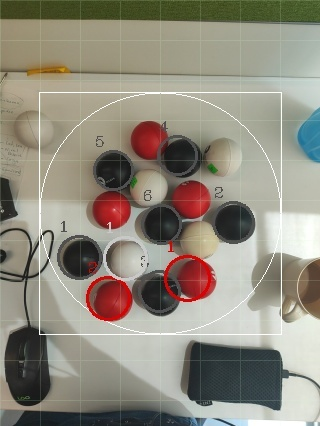Pelota blanca: (103, 236, 150, 280), (0, 225, 33, 283), (12, 108, 54, 150), (127, 169, 169, 208), (177, 220, 219, 259), (201, 137, 243, 176), (295, 257, 320, 320), (295, 105, 320, 163), (199, 417, 235, 425)
Pelota negra: (180, 339, 283, 413), (2, 326, 52, 408), (55, 233, 102, 280), (212, 198, 257, 246), (135, 204, 182, 246), (159, 134, 201, 179), (92, 148, 131, 190), (116, 409, 198, 425)
Pelota roja: (161, 252, 217, 302), (84, 276, 134, 323), (87, 190, 131, 230), (129, 118, 169, 160), (169, 180, 211, 219)
